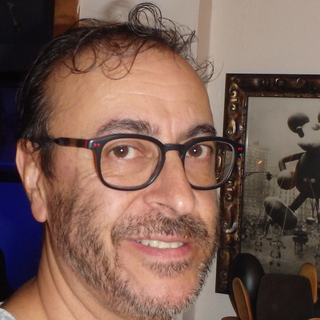eye: (102, 141, 148, 165), (177, 135, 214, 164)
